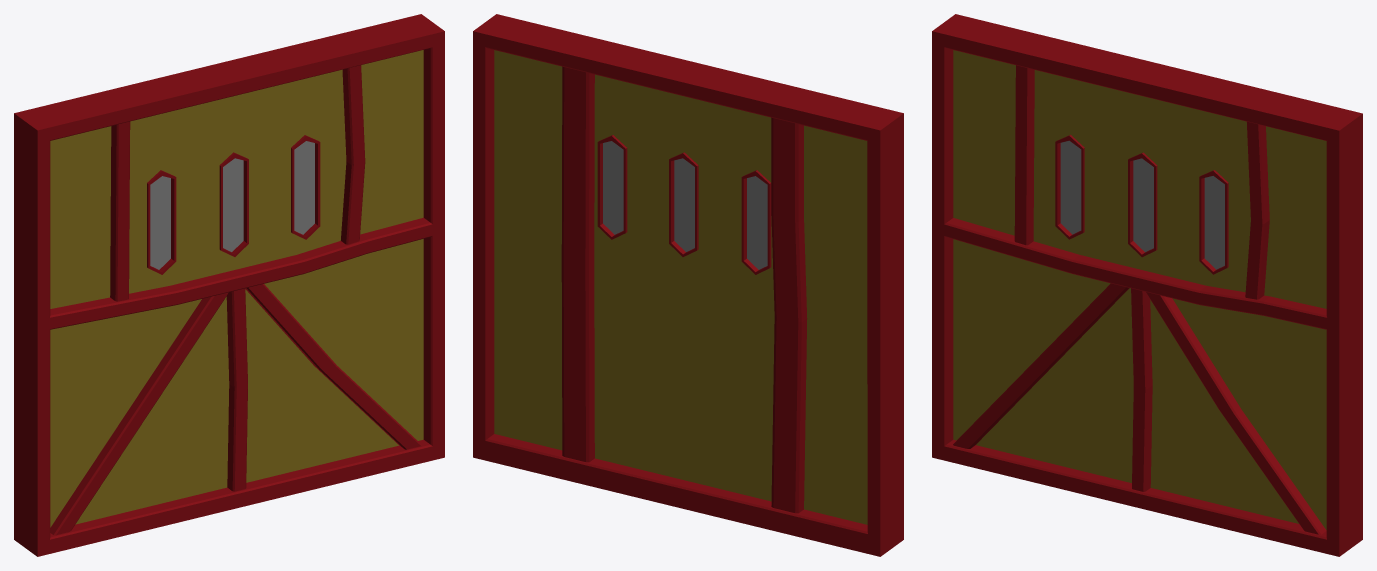
File: SM_MH_01_Plaster_Wall_Window_02.fbx
The picture shows the model from 3 angles, left to right: view 1: azimuth 30°, elevation 25°; view 2: azimuth 150°, elevation 25°; view 3: azimuth 330°, elevation 25°; orthographic projection.
Visible parts, largest first — view 1: SM_MH_01_Plaster_Wall_Window_02_LOD0, SM_MH_01_Plaster_Wall_Window_02W_LOD0; view 2: SM_MH_01_Plaster_Wall_Window_02_LOD0, SM_MH_01_Plaster_Wall_Window_02W_LOD0; view 3: SM_MH_01_Plaster_Wall_Window_02_LOD0, SM_MH_01_Plaster_Wall_Window_02W_LOD0.
Part boxes in pixels (bbox=[...]): SM_MH_01_Plaster_Wall_Window_02_LOD0: bbox=[14, 14, 444, 556]; SM_MH_01_Plaster_Wall_Window_02W_LOD0: bbox=[150, 141, 314, 269]; SM_MH_01_Plaster_Wall_Window_02_LOD0: bbox=[473, 14, 903, 556]; SM_MH_01_Plaster_Wall_Window_02W_LOD0: bbox=[603, 141, 767, 269]; SM_MH_01_Plaster_Wall_Window_02_LOD0: bbox=[932, 14, 1362, 556]; SM_MH_01_Plaster_Wall_Window_02W_LOD0: bbox=[1060, 140, 1224, 269].
Size of what is drawn, in the model's own units: 300 by 300 by 30.
